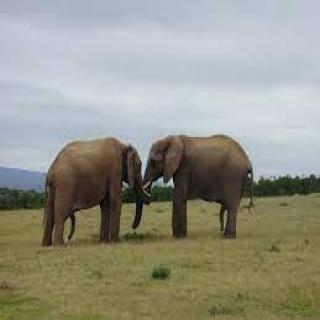Elephant: (144, 132, 258, 241), (37, 134, 145, 249)
